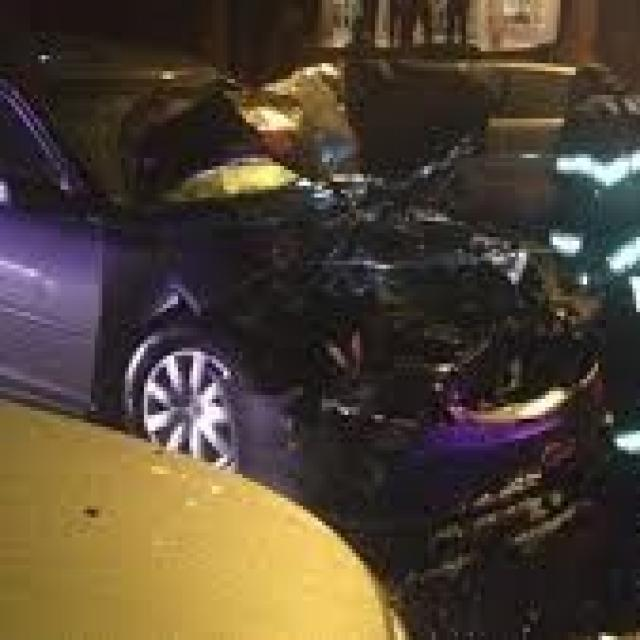severe: (151, 122, 606, 504)
